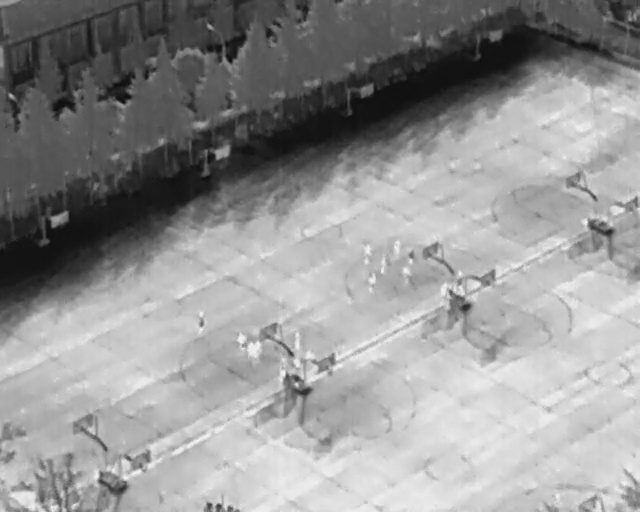Person: (250, 337, 261, 364), (403, 263, 414, 286), (236, 331, 247, 354), (456, 268, 465, 295), (306, 349, 316, 373), (198, 310, 206, 337), (278, 357, 287, 381), (368, 270, 377, 293), (365, 243, 373, 267), (394, 237, 401, 260), (295, 328, 302, 350), (441, 282, 447, 305), (381, 252, 387, 274)
